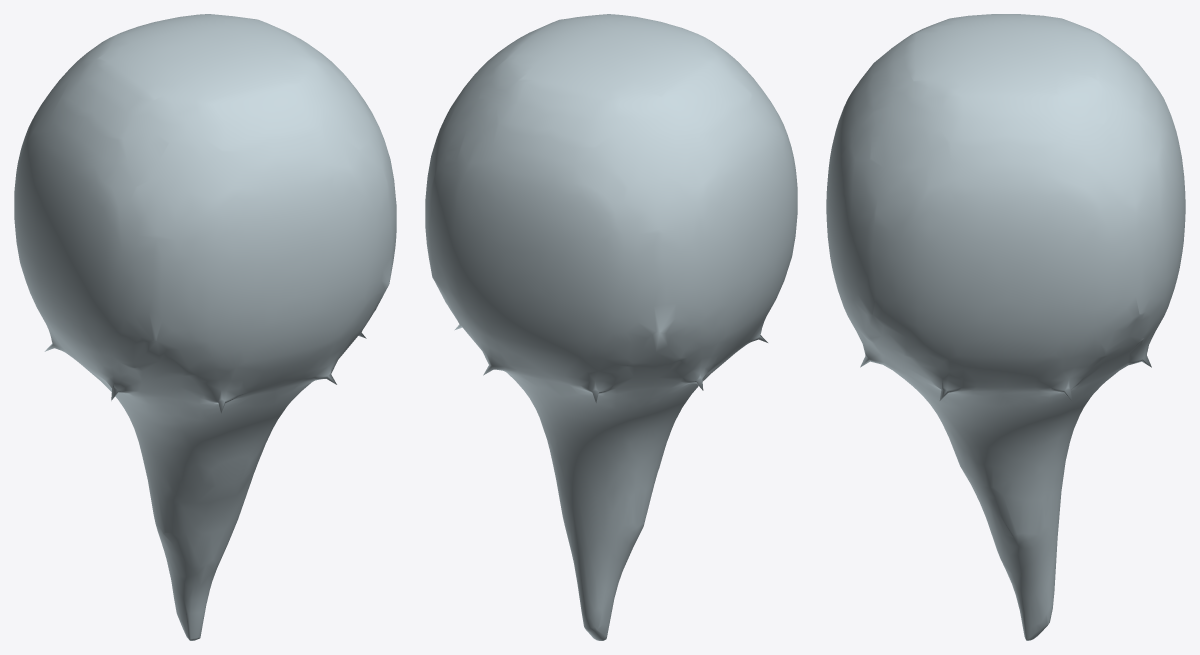
Rendered from wisp.glb.
3 views of the same model, side by side, from view 1: azimuth 30°, elevation 25°; view 2: azimuth 150°, elevation 25°; view 3: azimuth 270°, elevation 25° (orthographic). The views are drawn at different scales.
Parts seen in each view (by area): view 1: wisp; view 2: wisp; view 3: wisp.
Boxes of the visible parts, x1,y1,x2,y2 form: wisp: (14, 14, 396, 640); wisp: (425, 14, 797, 640); wisp: (826, 14, 1185, 640).
Size of the model in its own units: 10.36 by 19.03 by 10.36.
